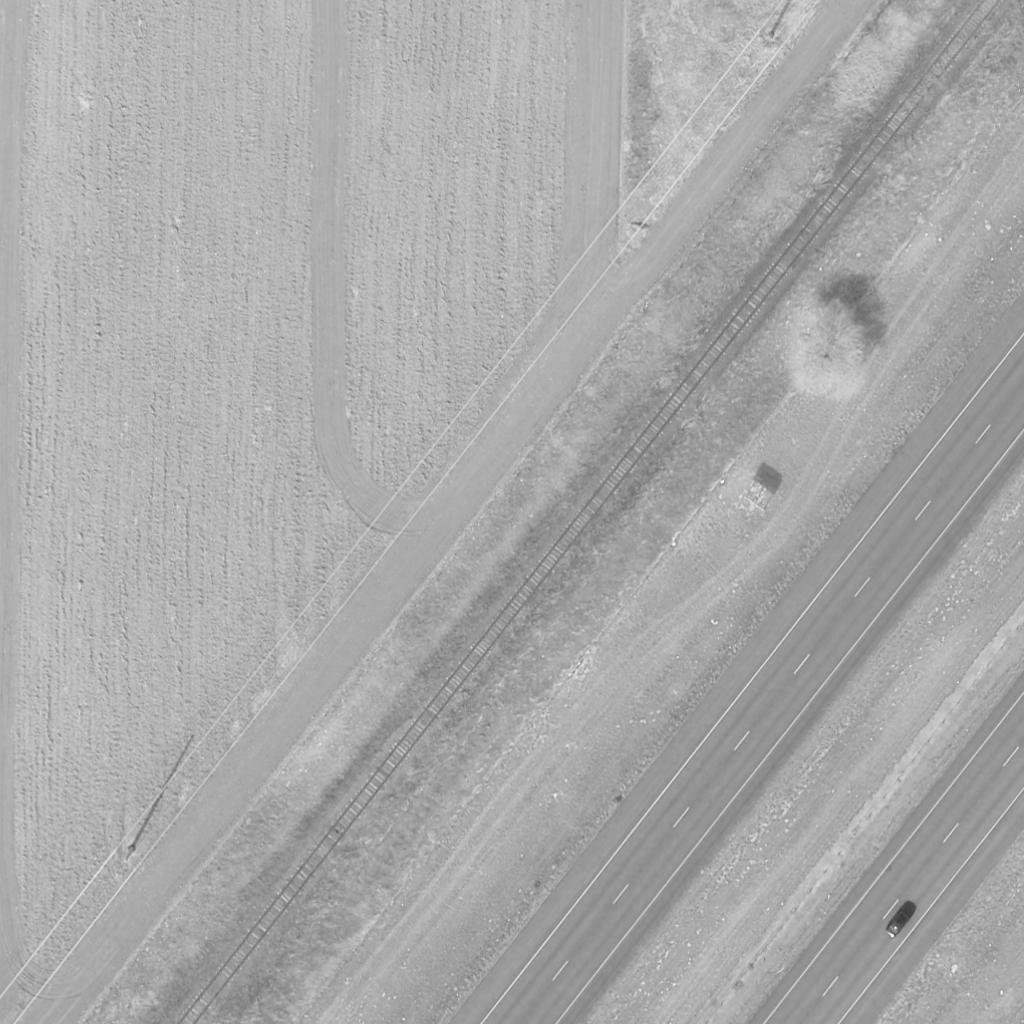vehicle: (885, 906, 913, 940)
